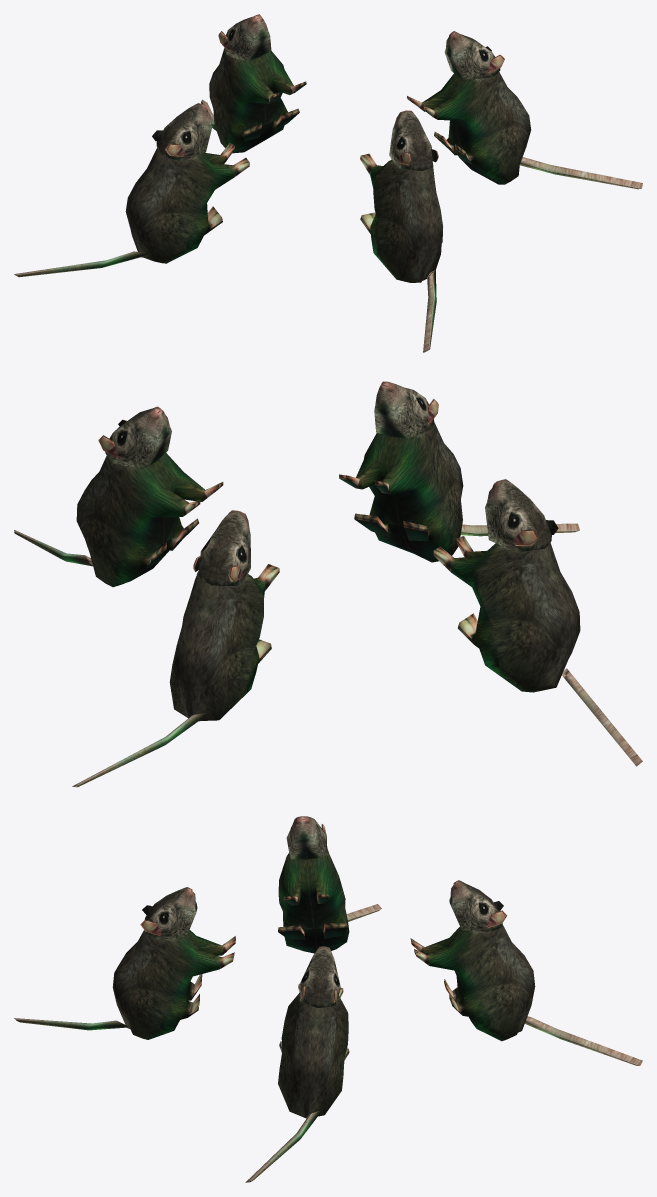
Rendered from rats.obj.
3 renders of one model, top to bottom at view 1: azimuth 30°, elevation 25°; view 2: azimuth 150°, elevation 25°; view 3: azimuth 270°, elevation 25°, orthographic. The views are drawn at different scales.
Parts seen in each view (by area): view 1: Body2, Body4, Body3, Body1, Tail4, Tail2, Tail3; view 2: Body2, Body4, Body1, Body3, Tail2, Tail1, Tail4; view 3: Body3, Body1, Body4, Body2, Tail1, Tail3, Tail4.
Part boxes in pixels (left/top/right/bottom): Body2: left=125, top=103, right=249, bottom=263; Body4: left=407, top=31, right=531, bottom=184; Body3: left=360, top=110, right=442, bottom=282; Body1: left=209, top=14, right=306, bottom=153; Tail4: left=520, top=157, right=642, bottom=189; Tail2: left=14, top=251, right=148, bottom=277; Tail3: left=423, top=270, right=436, bottom=352; Body2: left=433, top=479, right=580, bottom=692; Body4: left=76, top=406, right=223, bottom=587; Body1: left=169, top=510, right=279, bottom=721; Body3: left=339, top=381, right=463, bottom=562; Tail2: left=562, top=668, right=642, bottom=766; Tail1: left=72, top=712, right=209, bottom=787; Tail4: left=14, top=530, right=92, bottom=566; Body3: left=112, top=887, right=235, bottom=1039; Body1: left=410, top=880, right=535, bottom=1041; Body4: left=278, top=946, right=349, bottom=1118; Body2: left=278, top=816, right=349, bottom=953; Tail1: left=525, top=1016, right=642, bottom=1065; Tail3: left=14, top=1018, right=129, bottom=1030; Tail4: left=245, top=1109, right=322, bottom=1182.
Size of the model in its own units: 9.42 by 2.63 by 9.04.
1 material, 1 textured.
